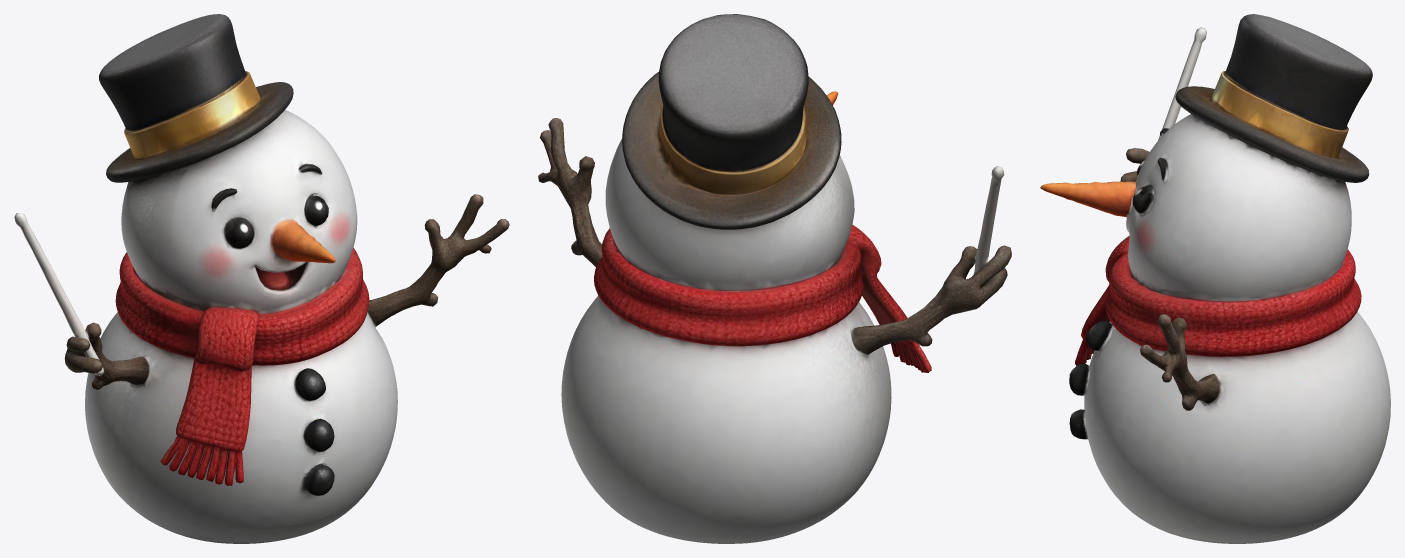
Rendered from snowman-conductor.glb.
The picture shows the model from 3 angles, left to right: view 1: azimuth 30°, elevation 25°; view 2: azimuth 150°, elevation 25°; view 3: azimuth 270°, elevation 25°; orthographic projection. The views are drawn at different scales.
Visible parts, largest first — view 1: tripo_node_c07054f5-74d8-4603-a974-5babcd688c3a; view 2: tripo_node_c07054f5-74d8-4603-a974-5babcd688c3a; view 3: tripo_node_c07054f5-74d8-4603-a974-5babcd688c3a.
Boxes of the visible parts, x1=… form: tripo_node_c07054f5-74d8-4603-a974-5babcd688c3a: x1=14, y1=14, x2=509, y2=543; tripo_node_c07054f5-74d8-4603-a974-5babcd688c3a: x1=538, y1=14, x2=1011, y2=543; tripo_node_c07054f5-74d8-4603-a974-5babcd688c3a: x1=1040, y1=14, x2=1390, y2=543.
Size of the model in its own units: 0.9797 by 0.9589 by 0.6435.
1 material, 1 textured.
